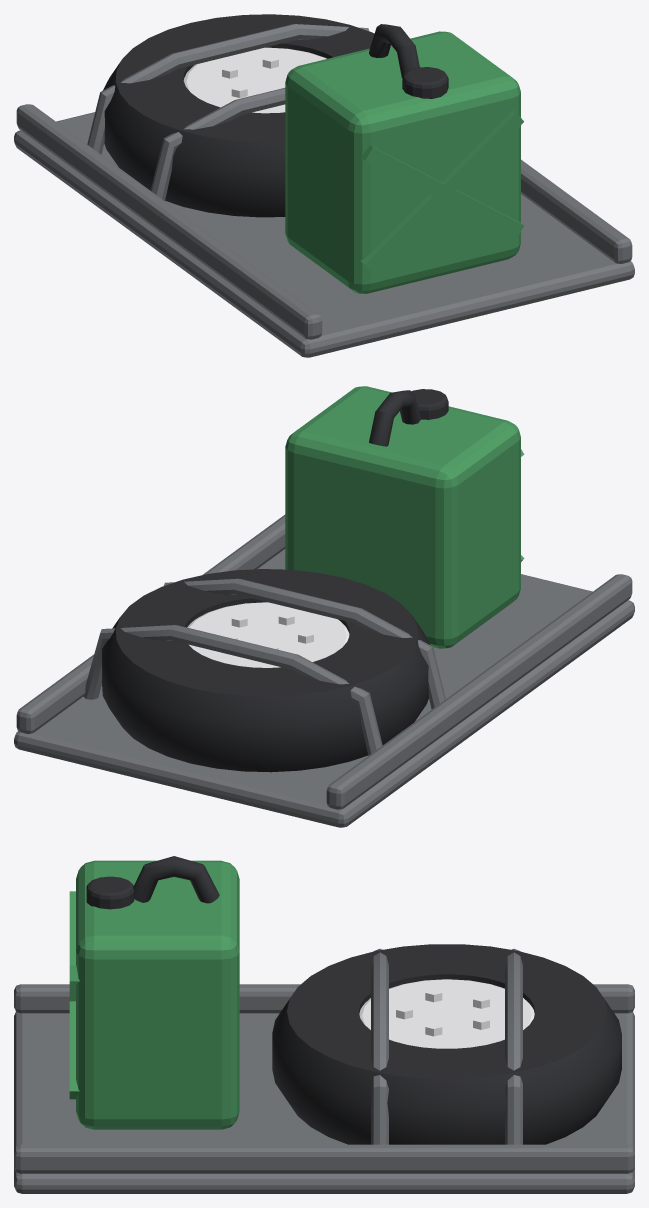
File: top_spare.fbx
3 views of the same model, one above another, from view 1: azimuth 30°, elevation 25°; view 2: azimuth 150°, elevation 25°; view 3: azimuth 270°, elevation 25° (orthographic). The views are drawn at different scales.
Parts seen in each view (by area): view 1: gun_1, green_1, dark_1, chrome_1; view 2: gun_1, green_1, dark_1, chrome_1; view 3: gun_1, dark_1, green_1, chrome_1.
Boxes of the visible parts, x1,y1,x2,y2 form: gun_1: (14,24,634,357); green_1: (285,31,524,293); dark_1: (103,14,448,217); chrome_1: (183,47,326,113); gun_1: (14,514,634,827); green_1: (285,386,524,648); dark_1: (102,389,448,772); chrome_1: (187,602,349,667); gun_1: (14,948,634,1193); dark_1: (86,856,621,1144); green_1: (69,860,239,1129); chrome_1: (359,979,534,1048).
Bounding box in the file's own units: 0.0461 × 0.0317 × 0.0701.
